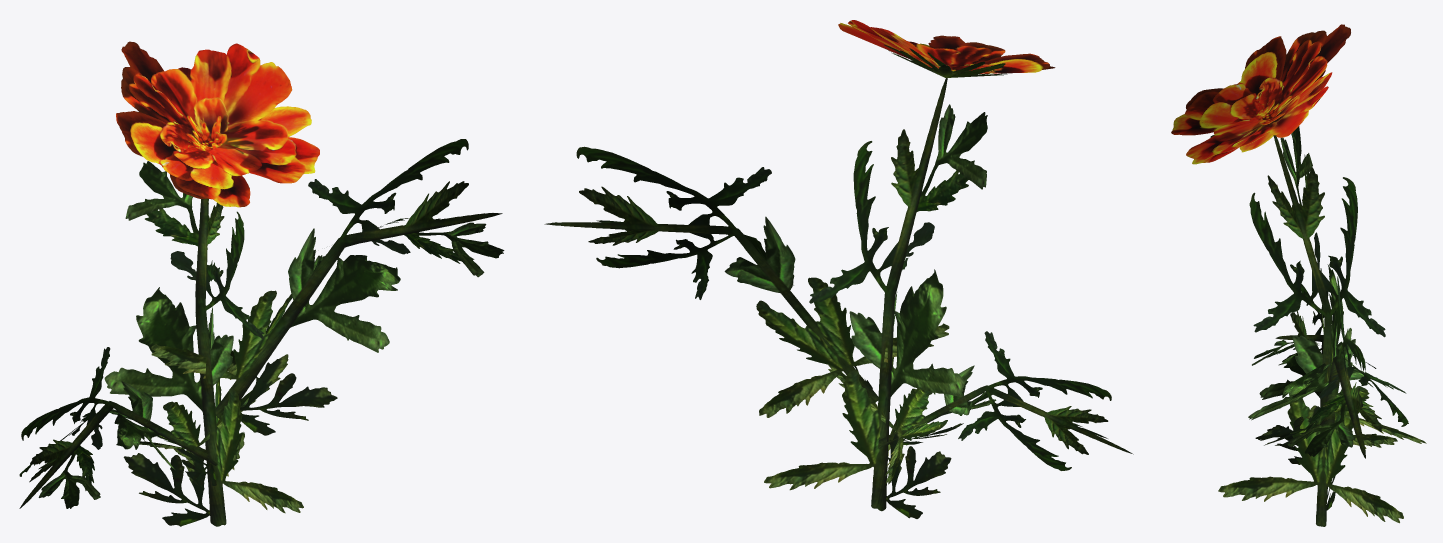
File: Marigold.obj
3 views of the same model, side by side, from view 1: azimuth 30°, elevation 25°; view 2: azimuth 150°, elevation 25°; view 3: azimuth 270°, elevation 25° (orthographic). The views are drawn at different scales.
Visible parts, largest first — view 1: LOD0SG; view 2: LOD0SG; view 3: LOD0SG.
Part boxes in pixels (x1,y1,x2,y2): LOD0SG: (19,41,504,526); LOD0SG: (544,20,1133,518); LOD0SG: (1171,24,1426,526).
Size of the model in its own units: 1.34 by 1.21 by 0.5988.
Materials: 1 (1 with a texture image).
